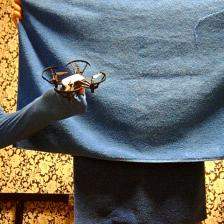drone: (42, 60, 107, 100)
